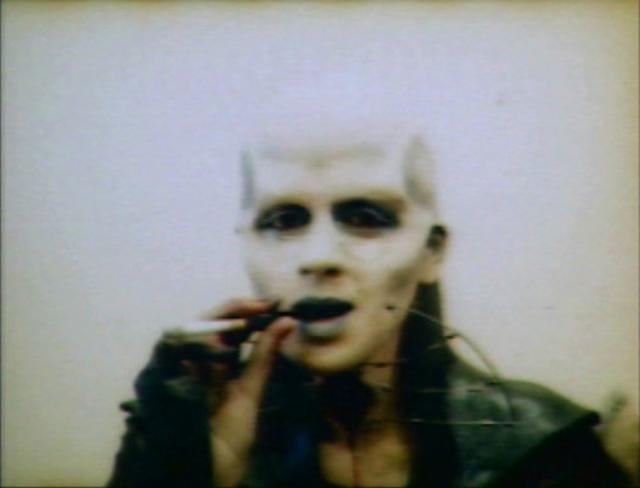SafeDriving: (326, 191, 410, 238)
Smoking: (169, 318, 249, 338)
